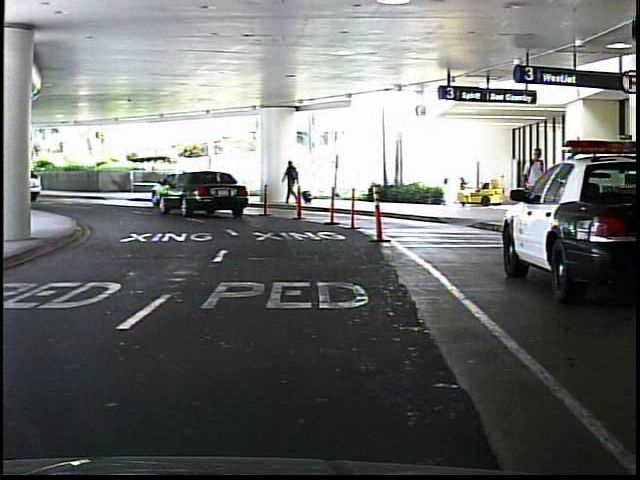person: (520, 143, 548, 232), (279, 159, 307, 209)
